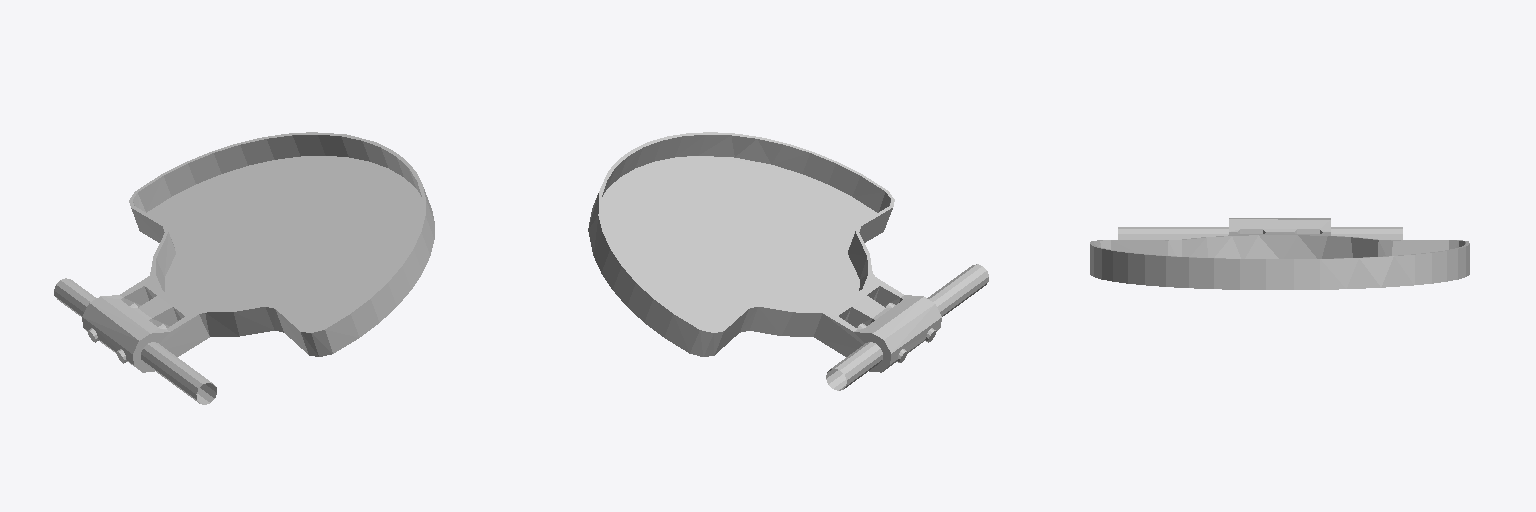
File: ContextImager_Cap.obj
3 renders of one model, left to right at view 1: azimuth 30°, elevation 25°; view 2: azimuth 150°, elevation 25°; view 3: azimuth 270°, elevation 25°, orthographic.
Parts seen in each view (by area): view 1: ContextImager_Cap.obj; view 2: ContextImager_Cap.obj; view 3: ContextImager_Cap.obj.
Boxes of the visible parts, x1,y1,x2,y2 form: ContextImager_Cap.obj: [54, 132, 434, 404]; ContextImager_Cap.obj: [588, 132, 988, 390]; ContextImager_Cap.obj: [1090, 218, 1469, 289].
Size of the model in its own units: 0.0462 by 0.0192 by 0.0499.